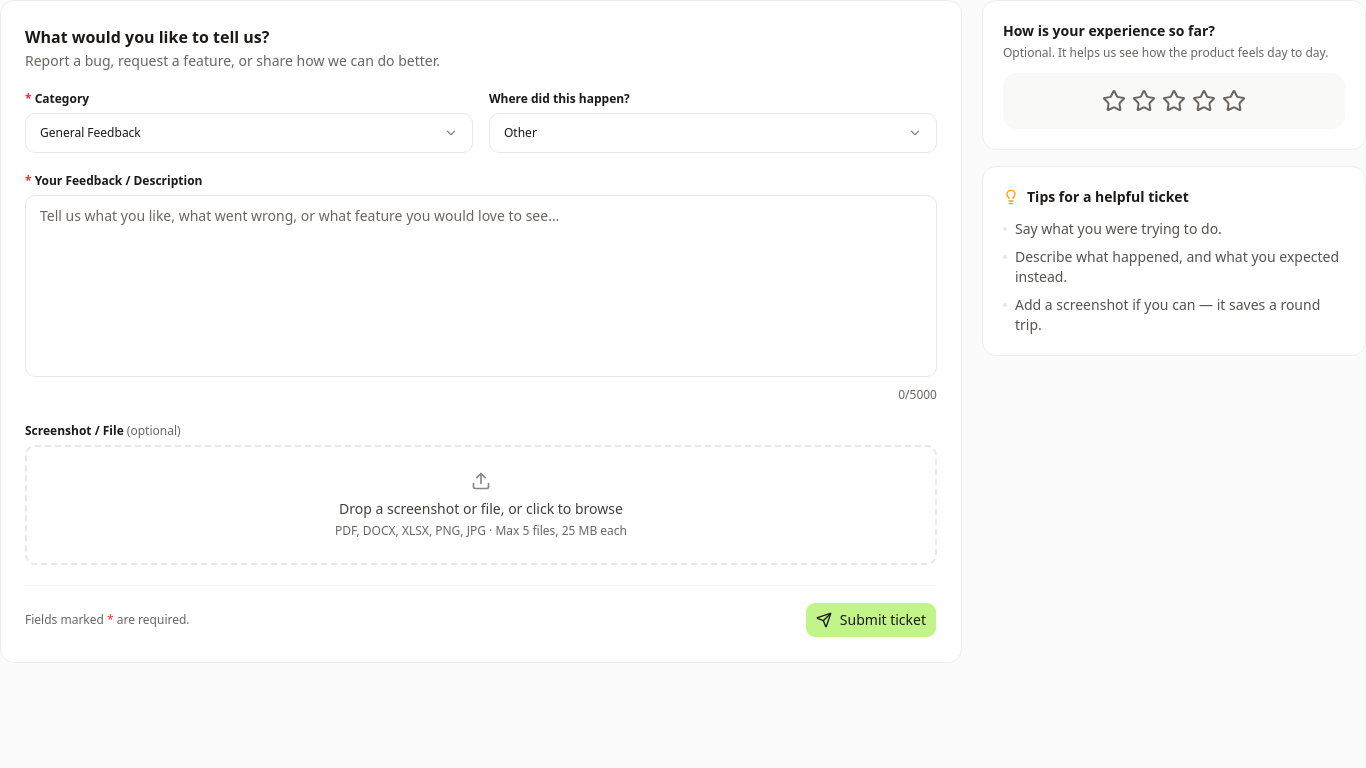
it: FeedbackSubmitForm validation and failure › shows the failure and keeps what was typed when submitting fails
The width and height of the screenshot is (1366, 768).
Type "Totals look wrong" into the text box labelled "* Your Feedback / Description" at (481, 286), box [25,195,937,377]
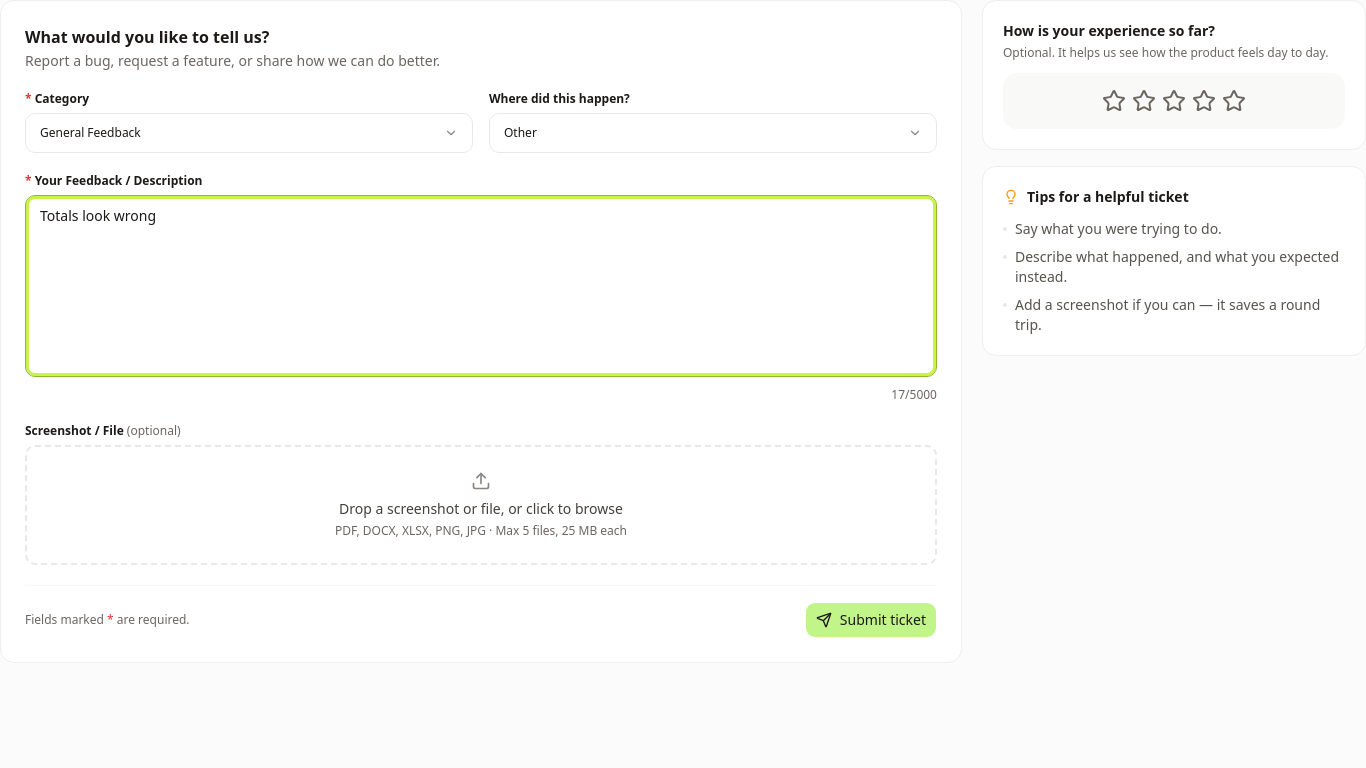
Click the button "Submit ticket" at (871, 620), box [805,602,937,638]
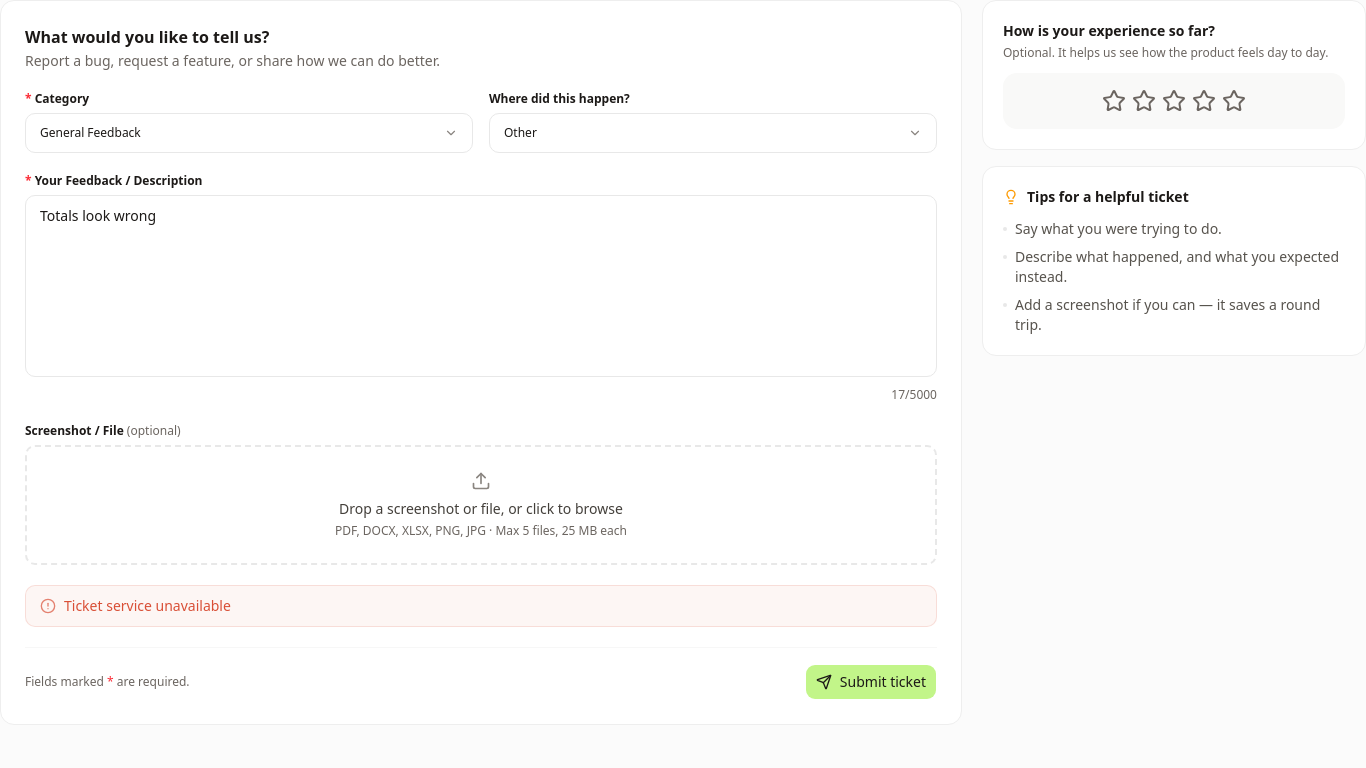
Check: the text "Ticket service unavailable" is shown, box [64,596,231,616]
